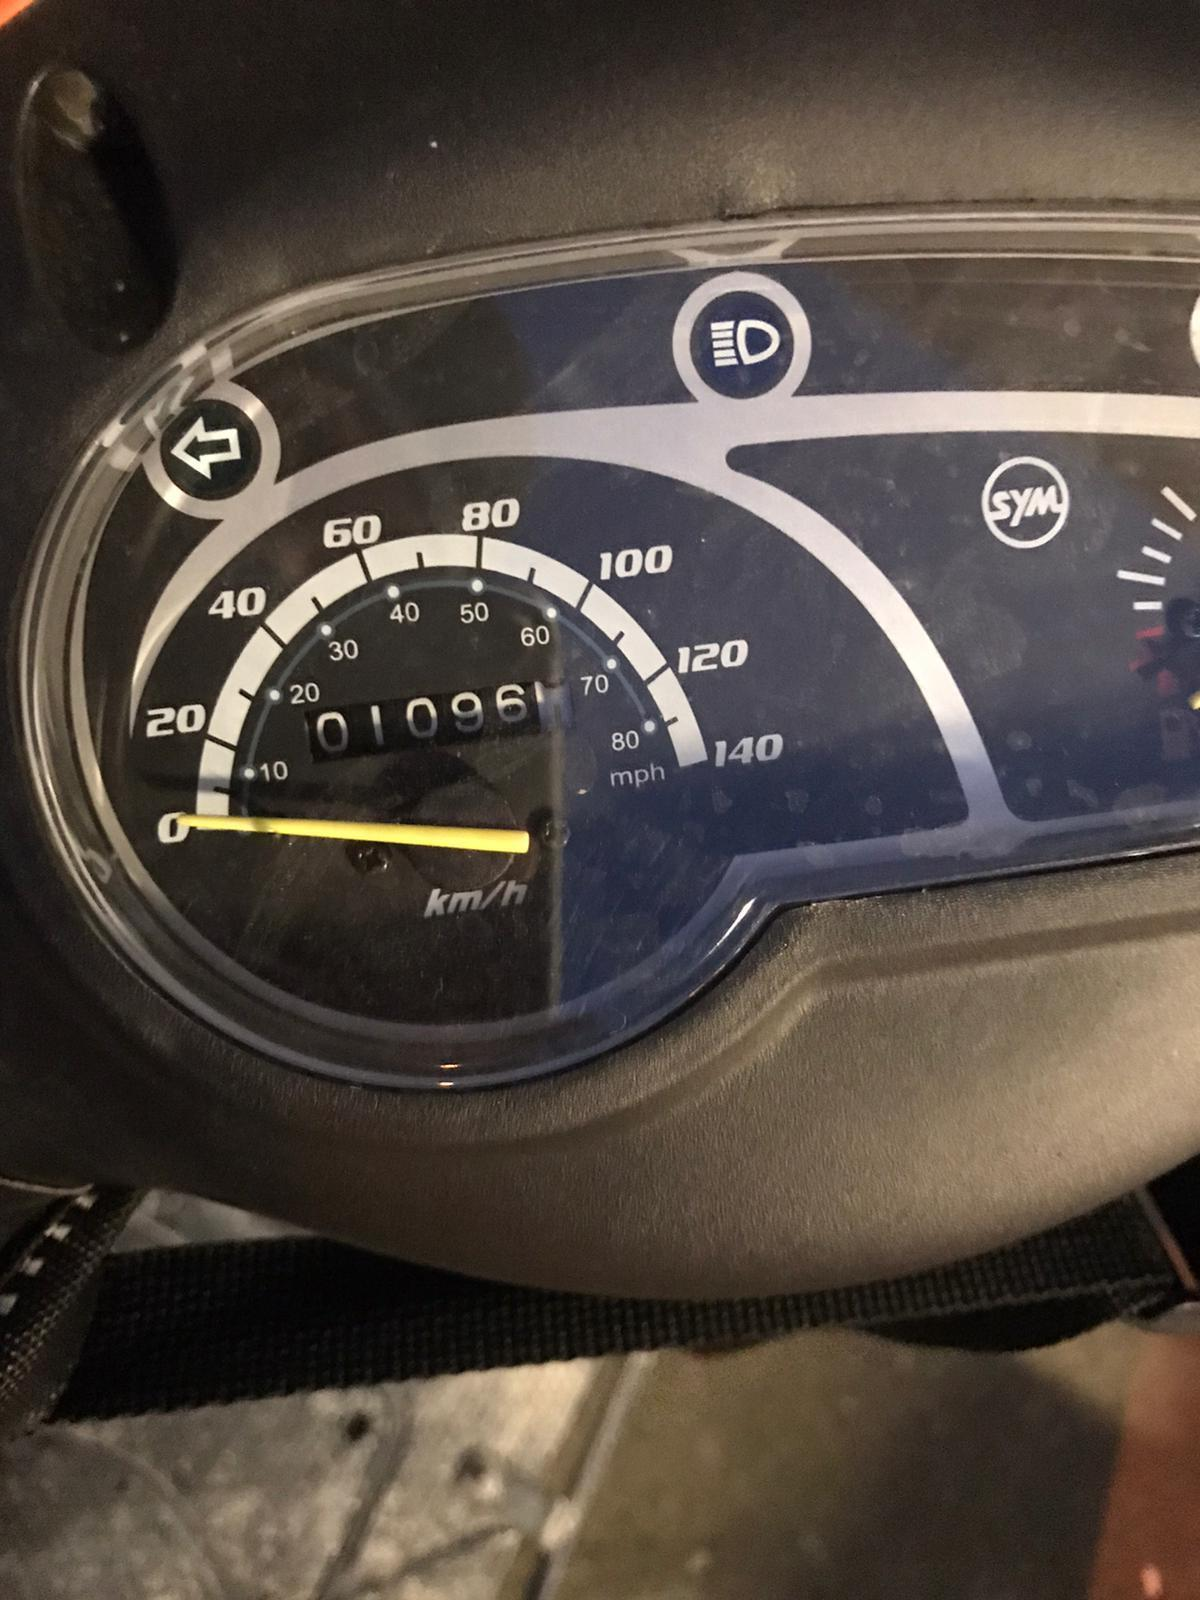0: (311, 708, 354, 755), (403, 695, 442, 741), (304, 679, 321, 704)
1: (364, 697, 392, 750), (545, 698, 572, 751)
6: (494, 680, 533, 734)
9: (449, 687, 487, 738)
odometer: (304, 671, 582, 769)
